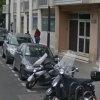Motorcycle: (25, 54, 93, 100)
